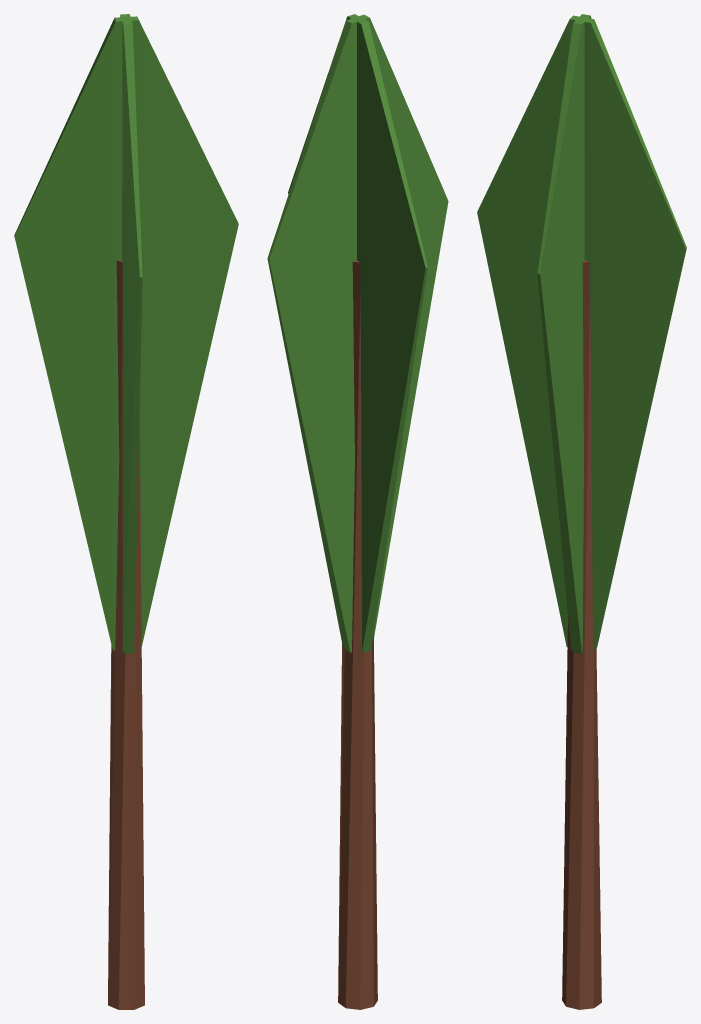
The model's file is Tree_30_summer_mat.fbx.
3 renders of one model, left to right at view 1: azimuth 30°, elevation 25°; view 2: azimuth 150°, elevation 25°; view 3: azimuth 270°, elevation 25°, orthographic.
Visible parts, largest first — view 1: Tree_30_summer_mat; view 2: Tree_30_summer_mat; view 3: Tree_30_summer_mat.
Boxes of the visible parts, left/top/right/bottom form: Tree_30_summer_mat: left=14, top=14, right=238, bottom=1009; Tree_30_summer_mat: left=267, top=14, right=448, bottom=1009; Tree_30_summer_mat: left=477, top=14, right=686, bottom=1009.
Bounding box in the file's own units: 1.96 × 10.12 × 1.96.
